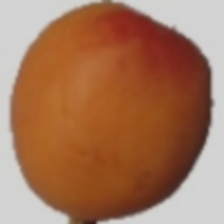apricot: (32, 23, 218, 177)
